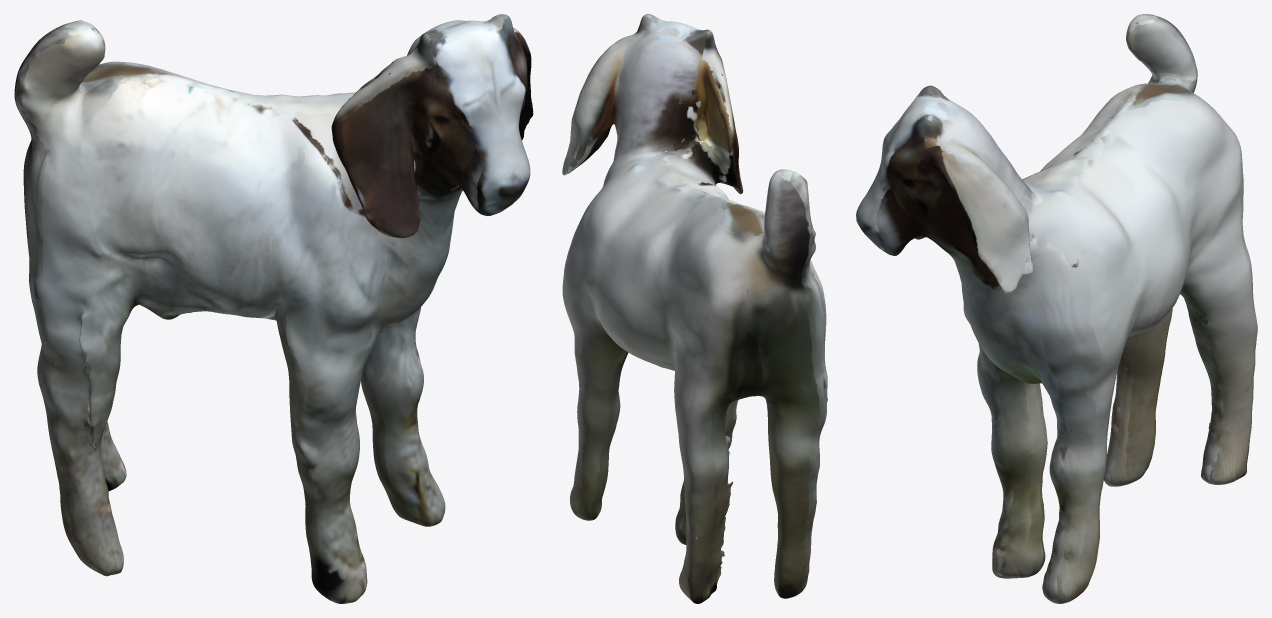
The model's file is bebe.glb.
The picture shows the model from 3 angles, left to right: view 1: azimuth 30°, elevation 25°; view 2: azimuth 150°, elevation 25°; view 3: azimuth 270°, elevation 25°; orthographic projection. The views are drawn at different scales.
Visible parts, largest first — view 1: mesh; view 2: mesh; view 3: mesh.
Boxes of the visible parts, x1=… form: mesh: x1=14, y1=14, x2=533, y2=603; mesh: x1=562, y1=14, x2=827, y2=603; mesh: x1=856, y1=14, x2=1257, y2=603.
Bounding box in the file's own units: 1.19 × 1.65 × 1.18.
1 material, 1 textured.
